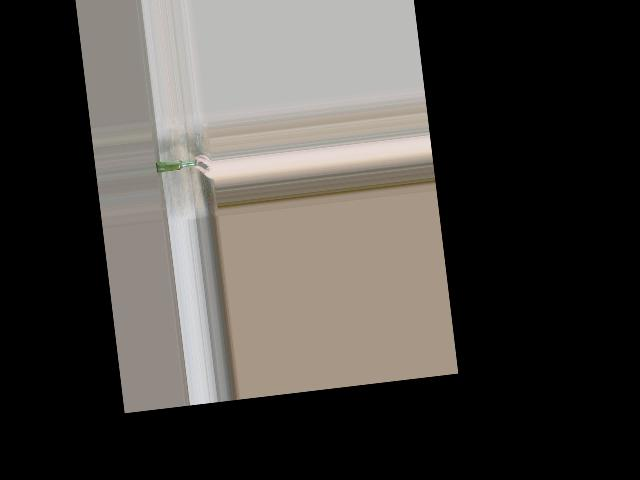beer: (155, 157, 198, 172)
